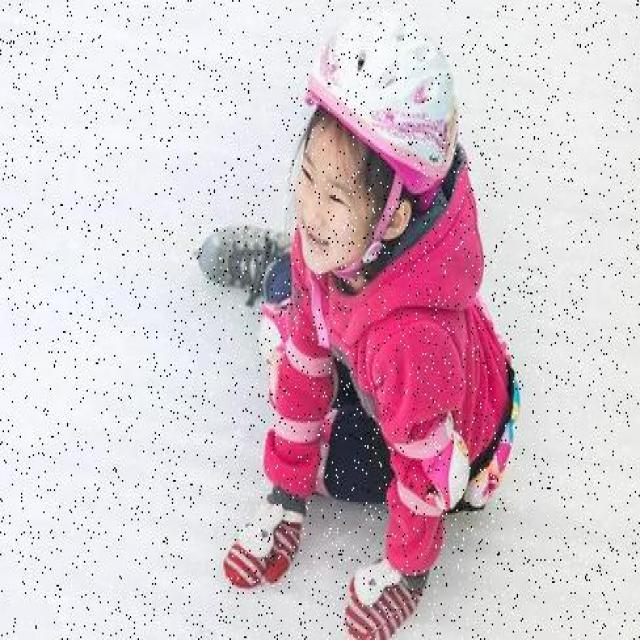fall: (218, 123, 512, 598)
